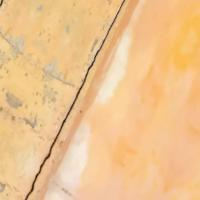crack: (30, 0, 131, 199)
